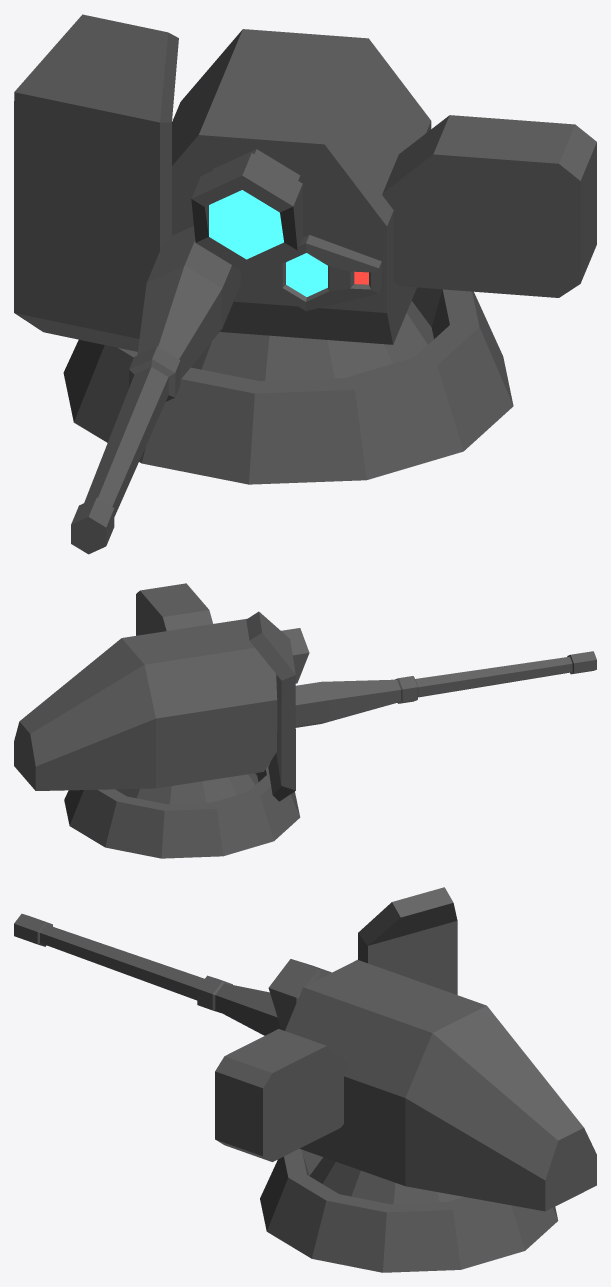
The model's file is vehA.fbx.
3 views of the same model, one above another, from view 1: azimuth 30°, elevation 25°; view 2: azimuth 150°, elevation 25°; view 3: azimuth 270°, elevation 25° (orthographic). The views are drawn at different scales.
Visible parts, largest first — view 1: SM_Veh_Armored_Truck_Cannon_Barrel, SM_Veh_Armored_Truck_Cannon_01; view 2: SM_Veh_Armored_Truck_Cannon_Barrel, SM_Veh_Armored_Truck_Cannon_01; view 3: SM_Veh_Armored_Truck_Cannon_Barrel, SM_Veh_Armored_Truck_Cannon_01.
Boxes of the visible parts, x1,y1,x2,y2 form: SM_Veh_Armored_Truck_Cannon_Barrel: [14, 14, 596, 554]; SM_Veh_Armored_Truck_Cannon_01: [63, 287, 513, 484]; SM_Veh_Armored_Truck_Cannon_Barrel: [14, 583, 596, 801]; SM_Veh_Armored_Truck_Cannon_01: [64, 763, 300, 858]; SM_Veh_Armored_Truck_Cannon_Barrel: [14, 887, 596, 1211]; SM_Veh_Armored_Truck_Cannon_01: [260, 1148, 558, 1272].
Size of the model in its own units: 167 by 88.21 by 176.
